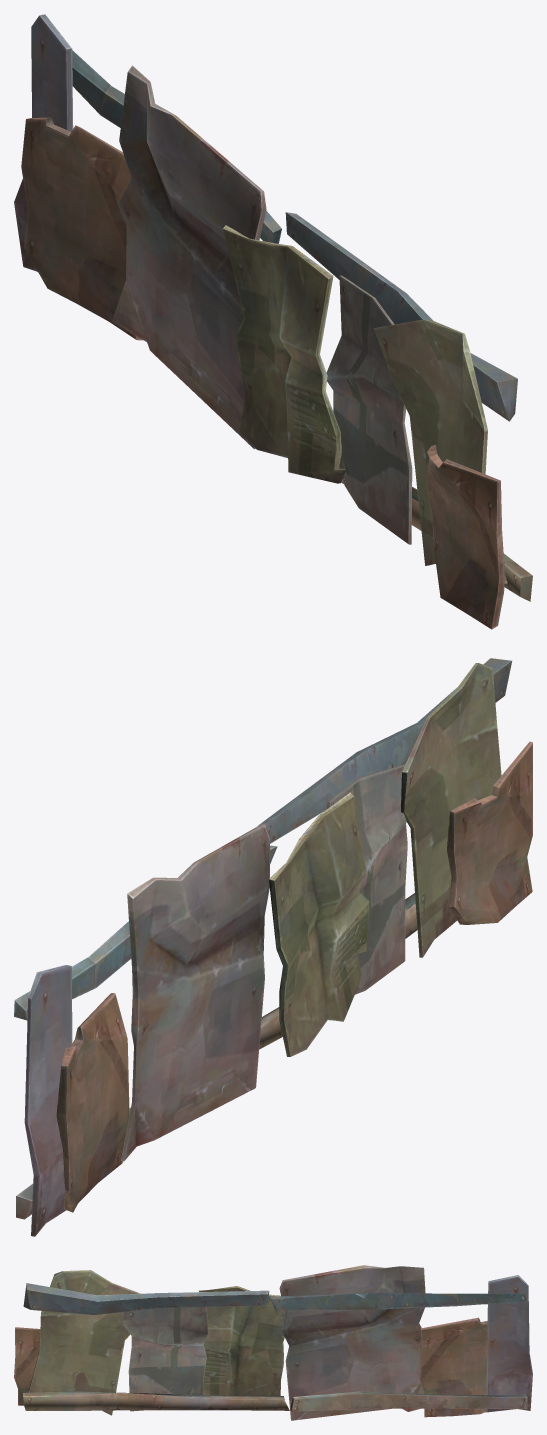
Rendered from all_arch_slum_fence_face.glb.
The picture shows the model from 3 angles, top to bottom: view 1: azimuth 30°, elevation 25°; view 2: azimuth 150°, elevation 25°; view 3: azimuth 270°, elevation 25°; orthographic projection. The views are drawn at different scales.
Visible parts, largest first — view 1: all_arch_slum_fence_face; view 2: all_arch_slum_fence_face; view 3: all_arch_slum_fence_face.
Boxes of the visible parts, bbox=[...] form: all_arch_slum_fence_face: bbox=[14, 14, 532, 629]; all_arch_slum_fence_face: bbox=[14, 658, 532, 1236]; all_arch_slum_fence_face: bbox=[14, 1265, 532, 1420].
Size of the model in its own units: 0.0535 by 0.2656 by 0.817.
Materials: 1 (1 with a texture image).
